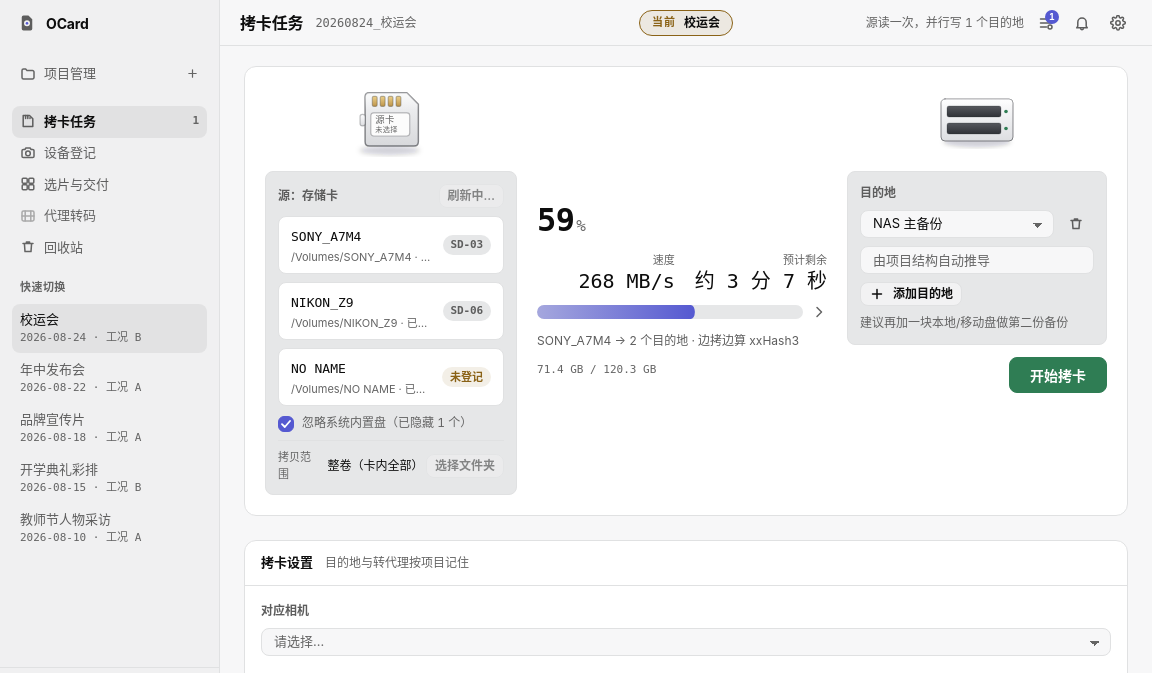
E2E 锚点 › 设置对话框字段
Click the button with test id "settings-open".
click(1118, 22)  # box [1104,8,1132,36]
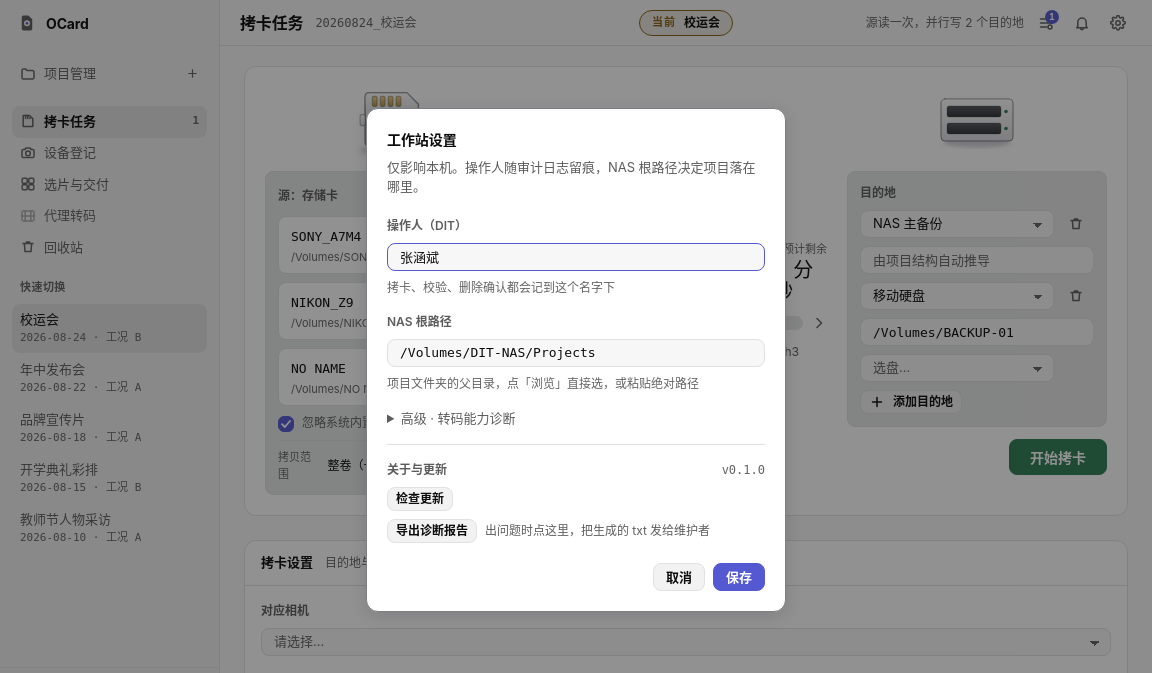
Expected: the field with test id "settings-operator" is shown, [387,243,765,271]
Expected: the field with test id "settings-nas-root" is shown, [387,339,765,367]
Expected: the button with test id "settings-save" is shown, [713,563,765,591]
